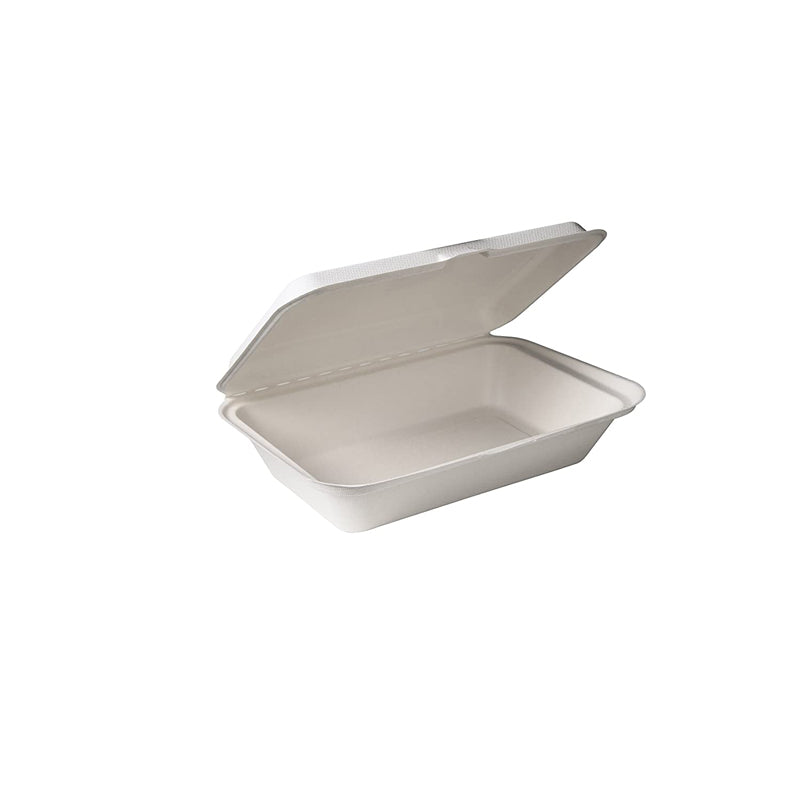styrofoam: (215, 216, 646, 538)
